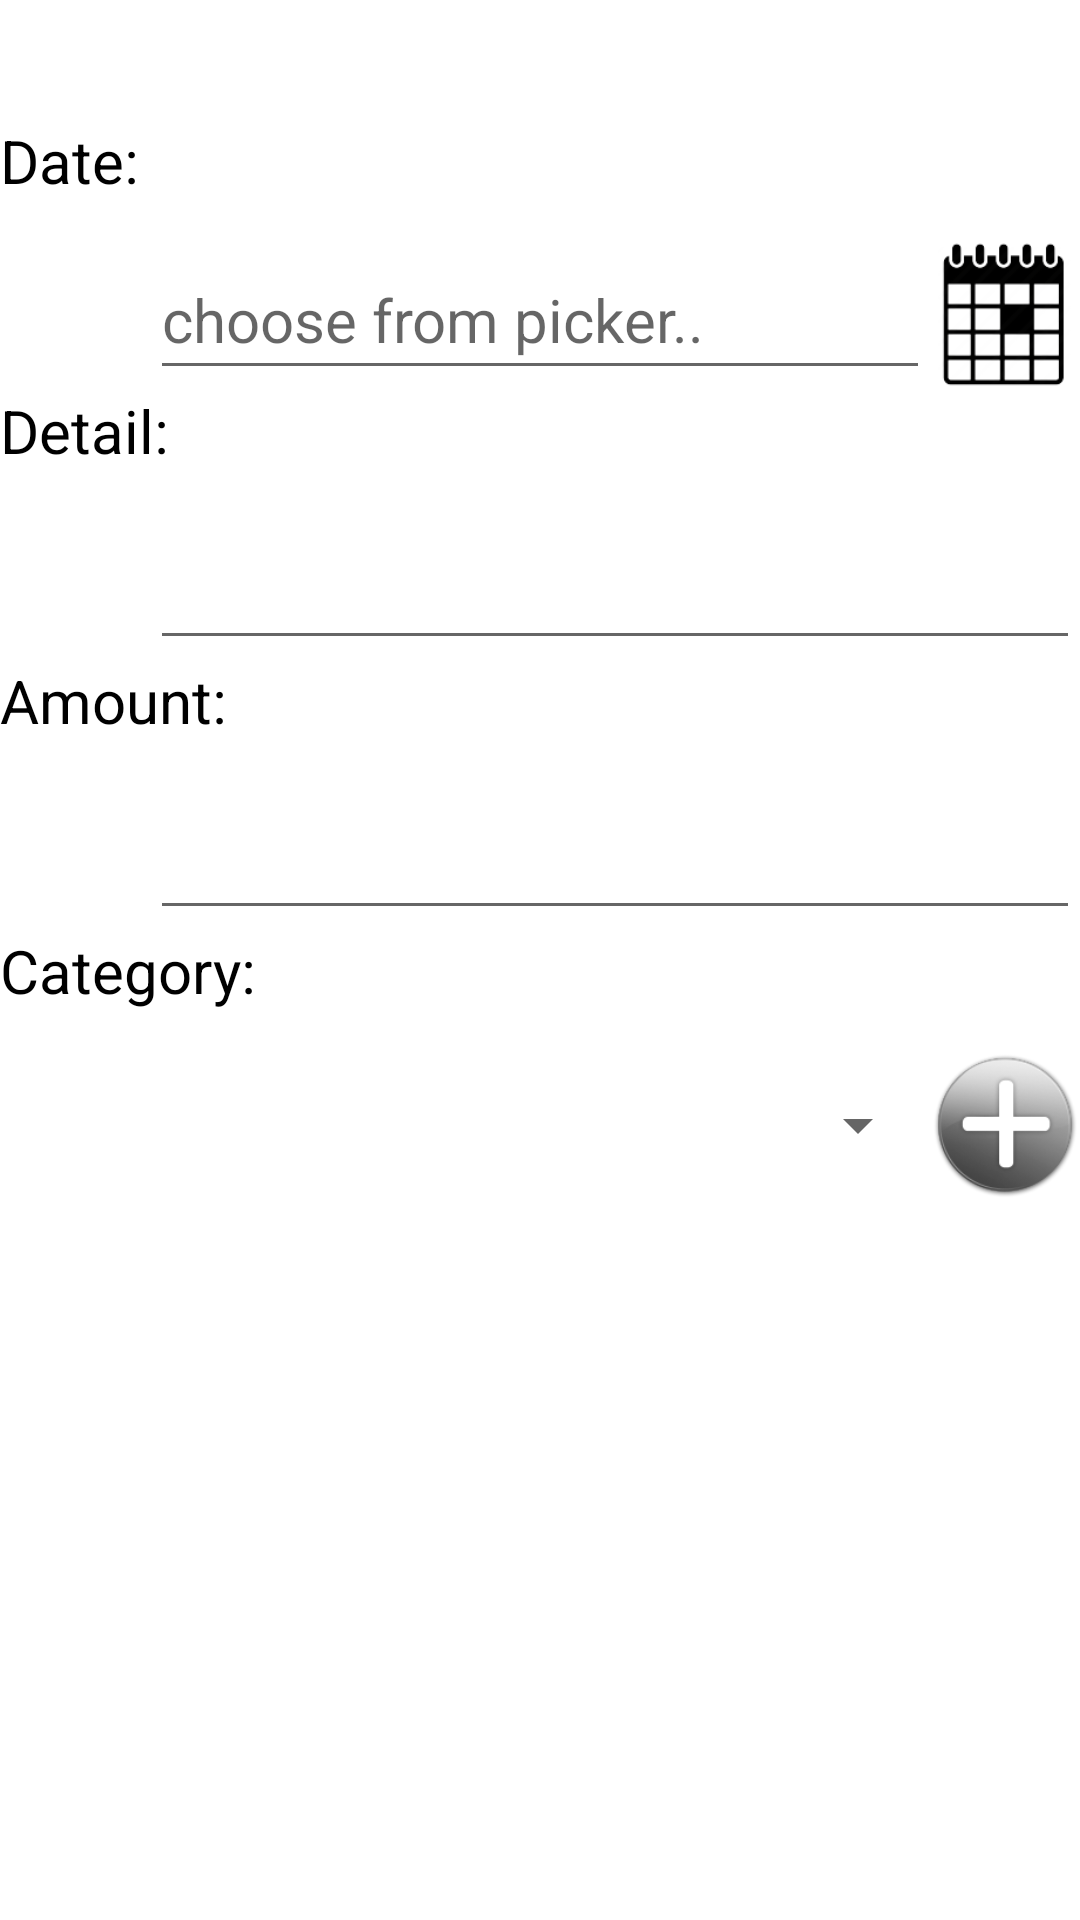

Where to tap for icons on this 1080 x 1920 app screen, as (x=x, y=y):
add: (x=1005, y=1126)
